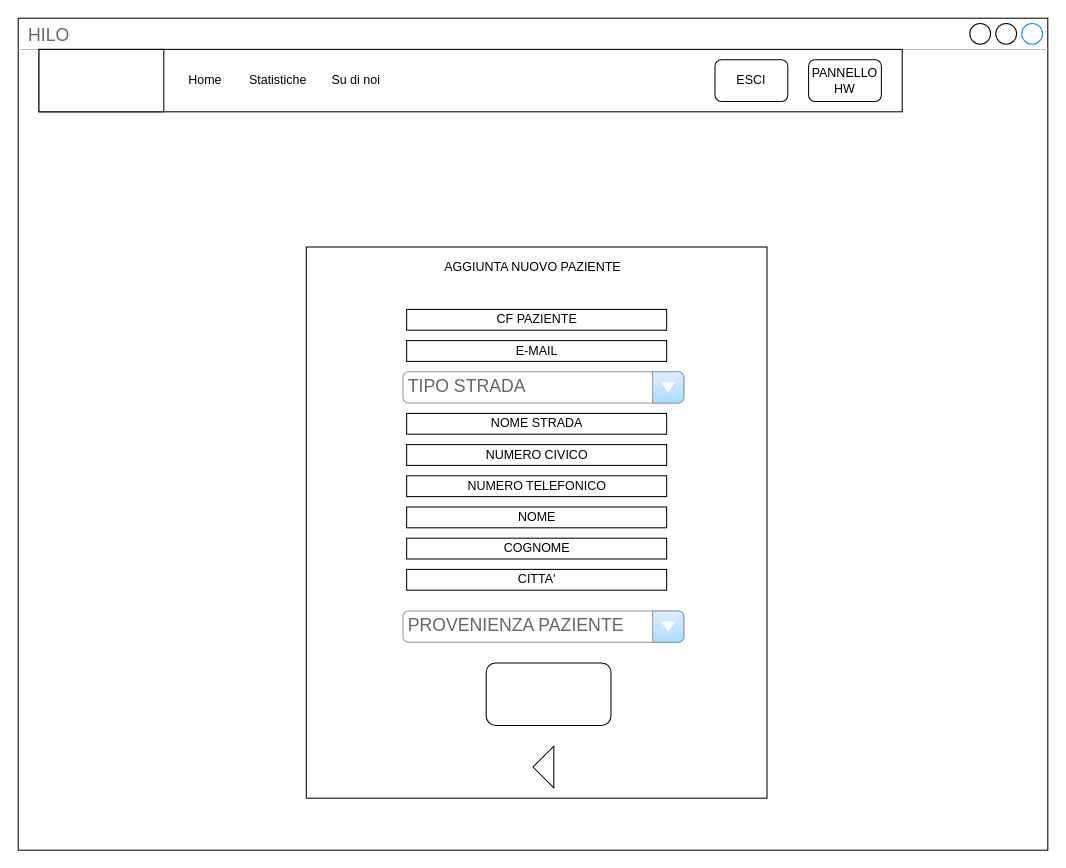
Image size: 1066x868. Some labels were removed from this diagram. The shapes that lost their labels are listed below. From the top down, each one's box as (x1, y1, x2, y2) in pixels, then its label:
(38, 48, 164, 112): LOGO
(485, 662, 611, 725): INVIA
